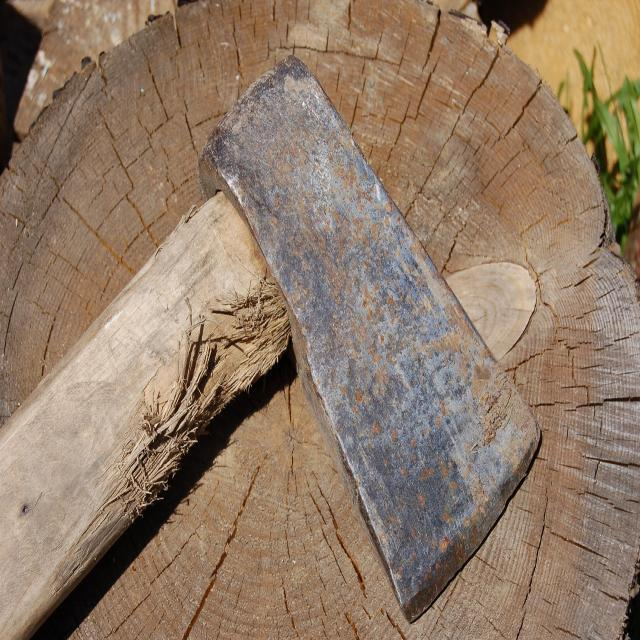Axe: (0, 59, 539, 639)
